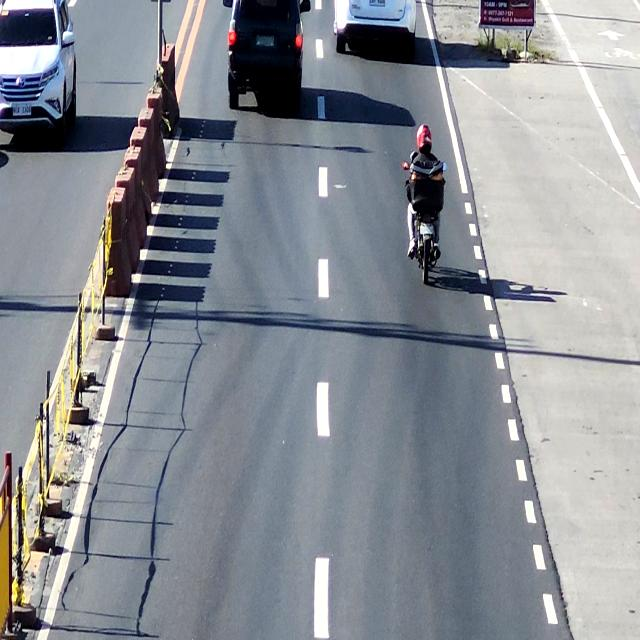License-Plate: (255, 29, 278, 52), (417, 217, 438, 238)
Motorcycle: (225, 0, 306, 121), (404, 120, 446, 302), (329, 0, 424, 62)
